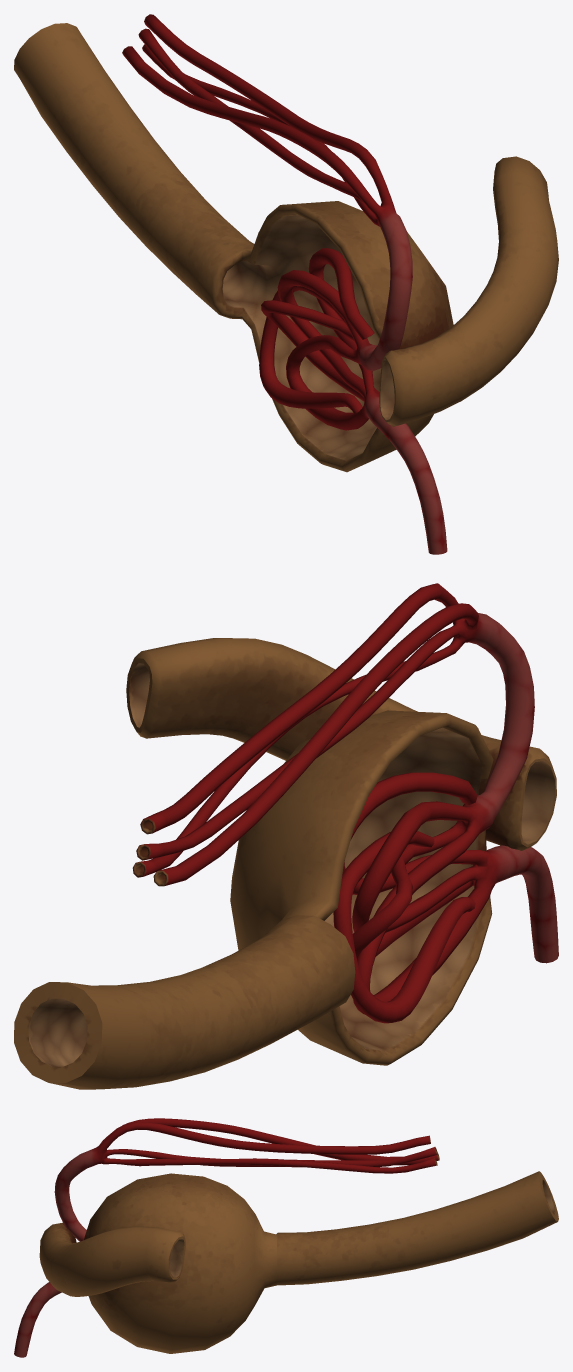
The model's file is Glomerulo.glb.
The picture shows the model from 3 angles, top to bottom: view 1: azimuth 30°, elevation 25°; view 2: azimuth 150°, elevation 25°; view 3: azimuth 270°, elevation 25°; orthographic projection. The views are drawn at different scales.
Visible parts, largest first — view 1: Capilares.002; view 2: Capilares.002; view 3: Capilares.002.
Boxes of the visible parts, <box> form: Capilares.002: <box>14,14,558,554</box>; Capilares.002: <box>14,583,558,1089</box>; Capilares.002: <box>14,1118,558,1357</box>.
Size of the model in its own units: 1.83 by 2.32 by 4.85.
Materials: 1 (1 with a texture image).
